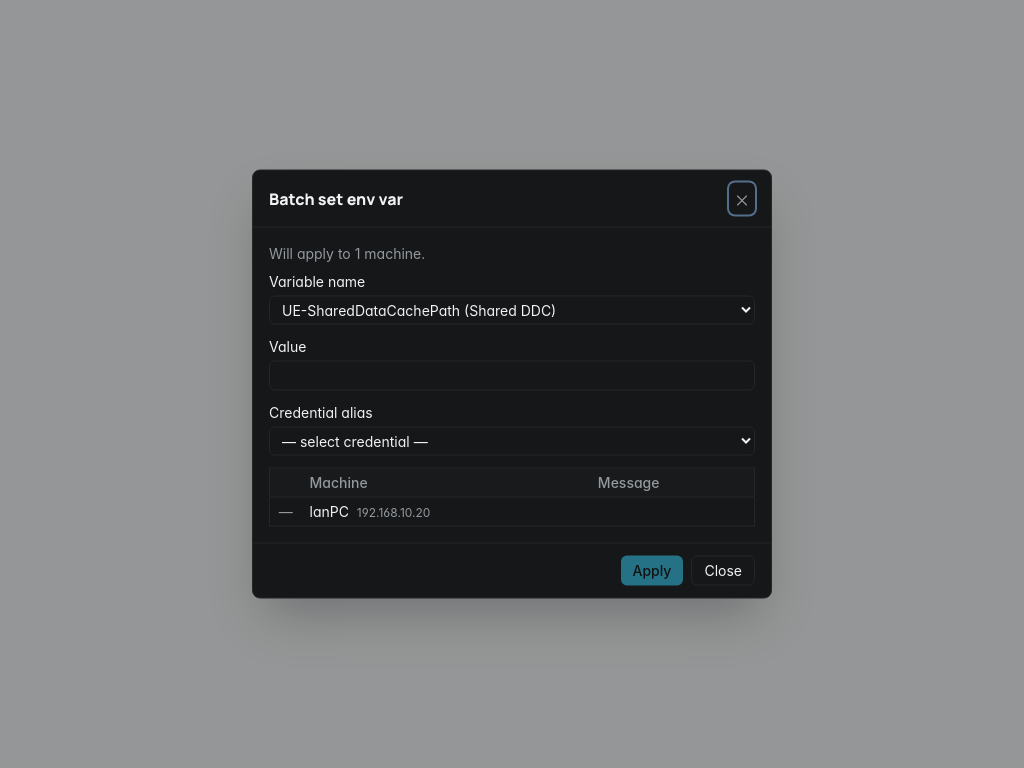
Scenario: BatchEnvVarModal › custom var name input appears when __custom selected
Select "Custom variable name" in the 1st dropdown: (512, 310) [269, 296, 755, 324]
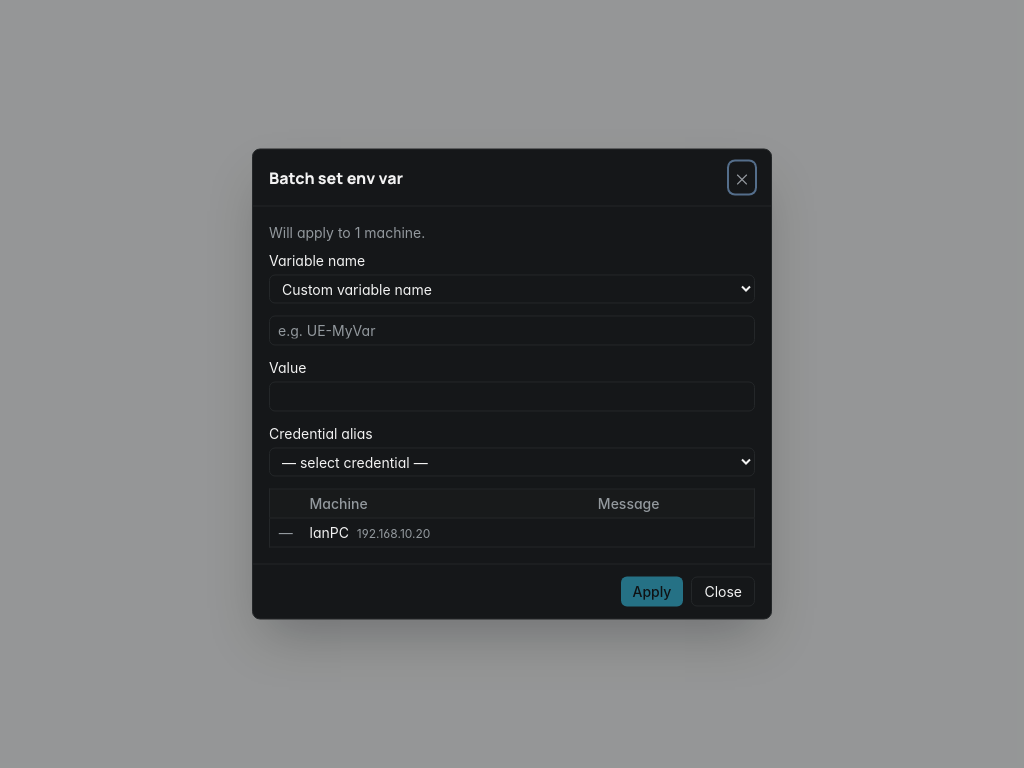
Check: the field with placeholder "e.g. UE-MyVar" is shown, box [269, 316, 755, 346]
